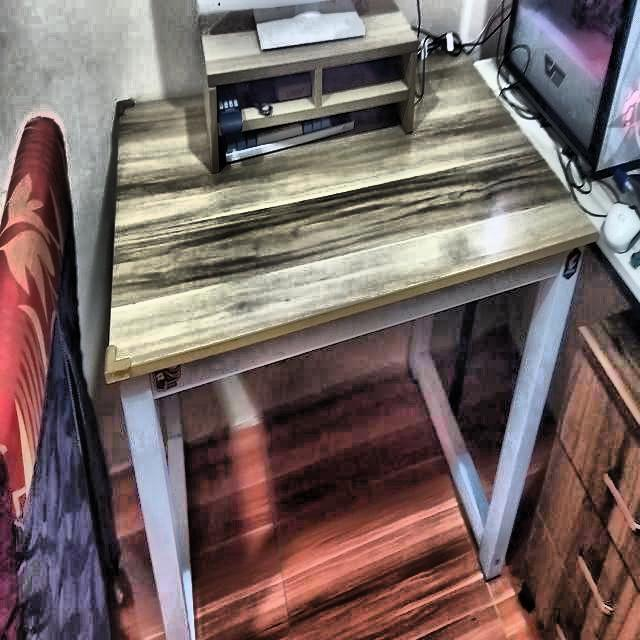mesa: (105, 28, 576, 640)
